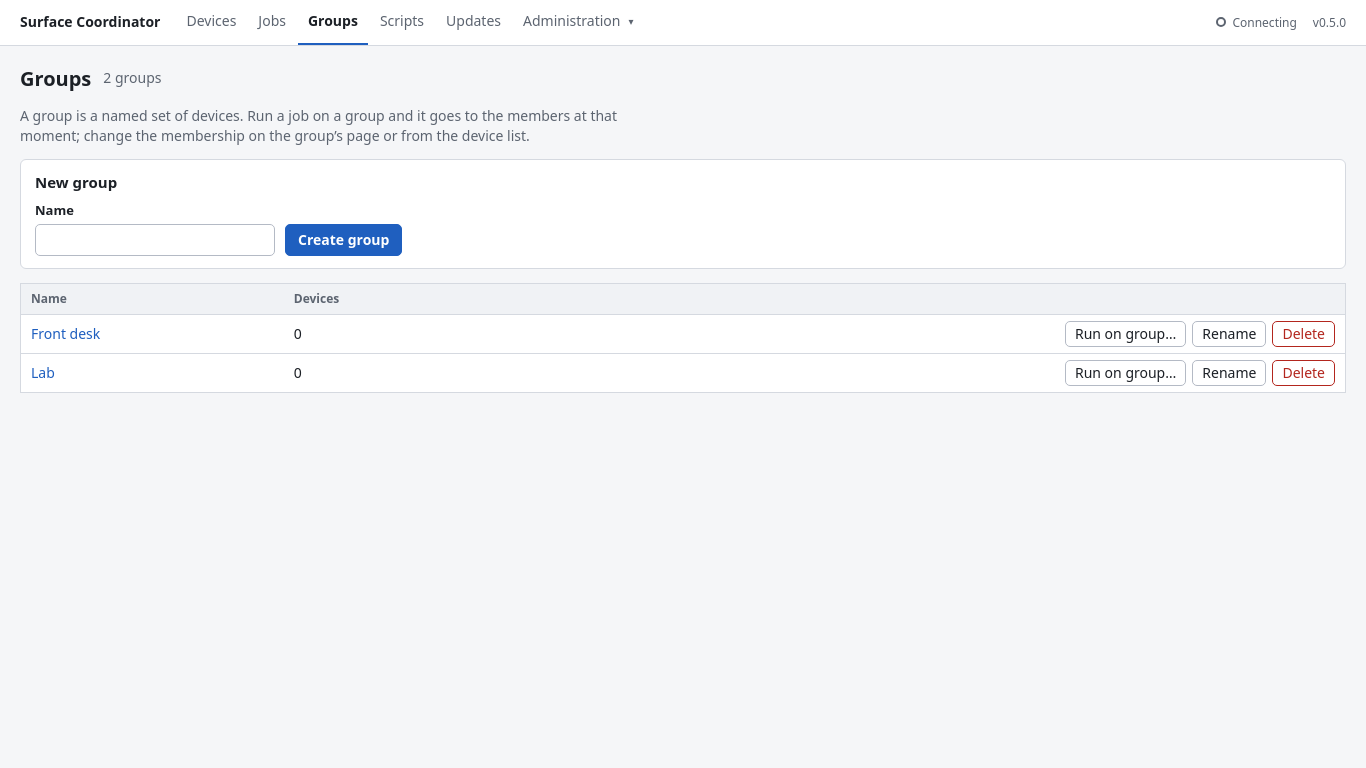
Test: Groups page › renames a group, reporting a clash inline
Click the button with aria-label "Rename Lab".
click(1229, 373)  # box x1=1192 y1=360 x2=1266 y2=386
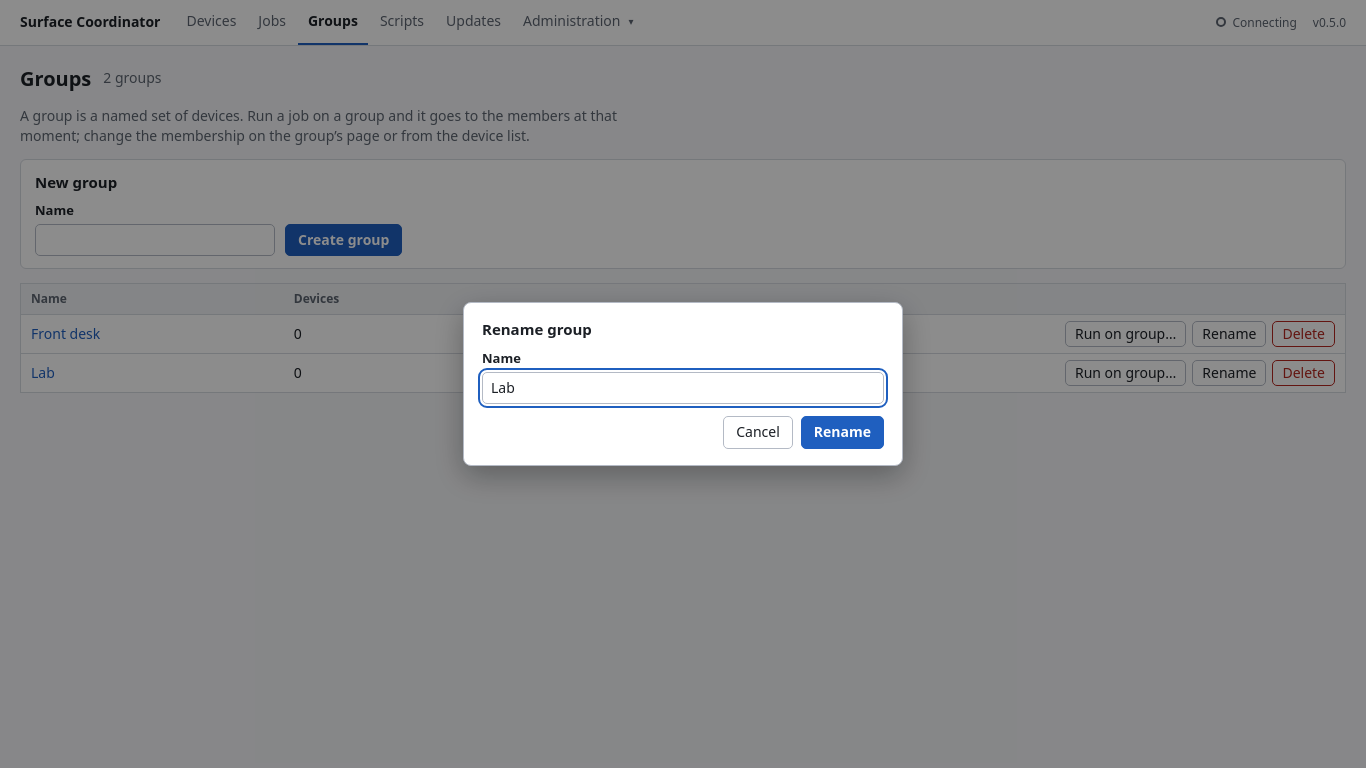
Check: the field labelled "Name" holds "Lab"
Replace the text in the field labelled "Name" with "front DESK" at (683, 388), box x1=482 y1=372 x2=884 y2=404
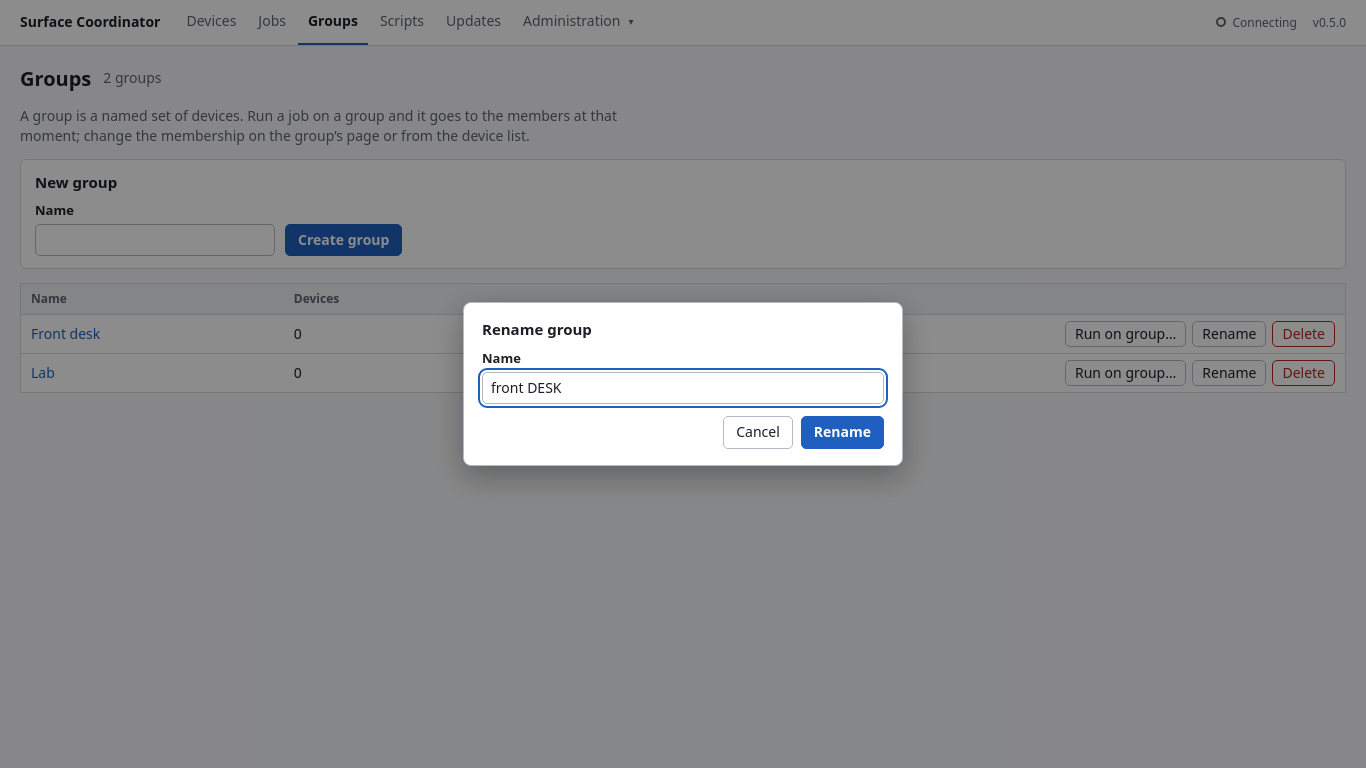
Click the button "Rename".
click(842, 432)  # box x1=801 y1=416 x2=884 y2=449
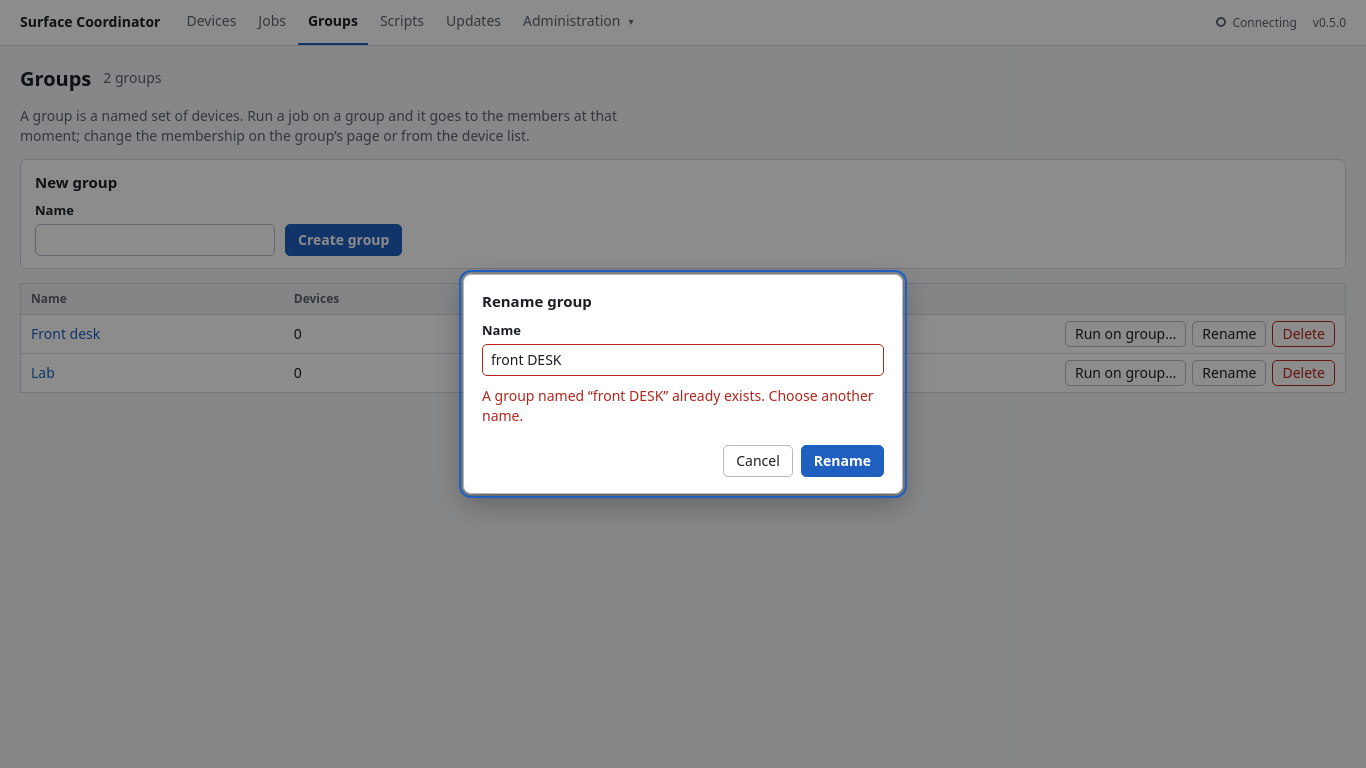
Check: the message shows "already exists", box x1=482 y1=386 x2=874 y2=425
Replace the text in the field labelled "Name" with "Classroom" at (683, 360), box x1=482 y1=344 x2=884 y2=376
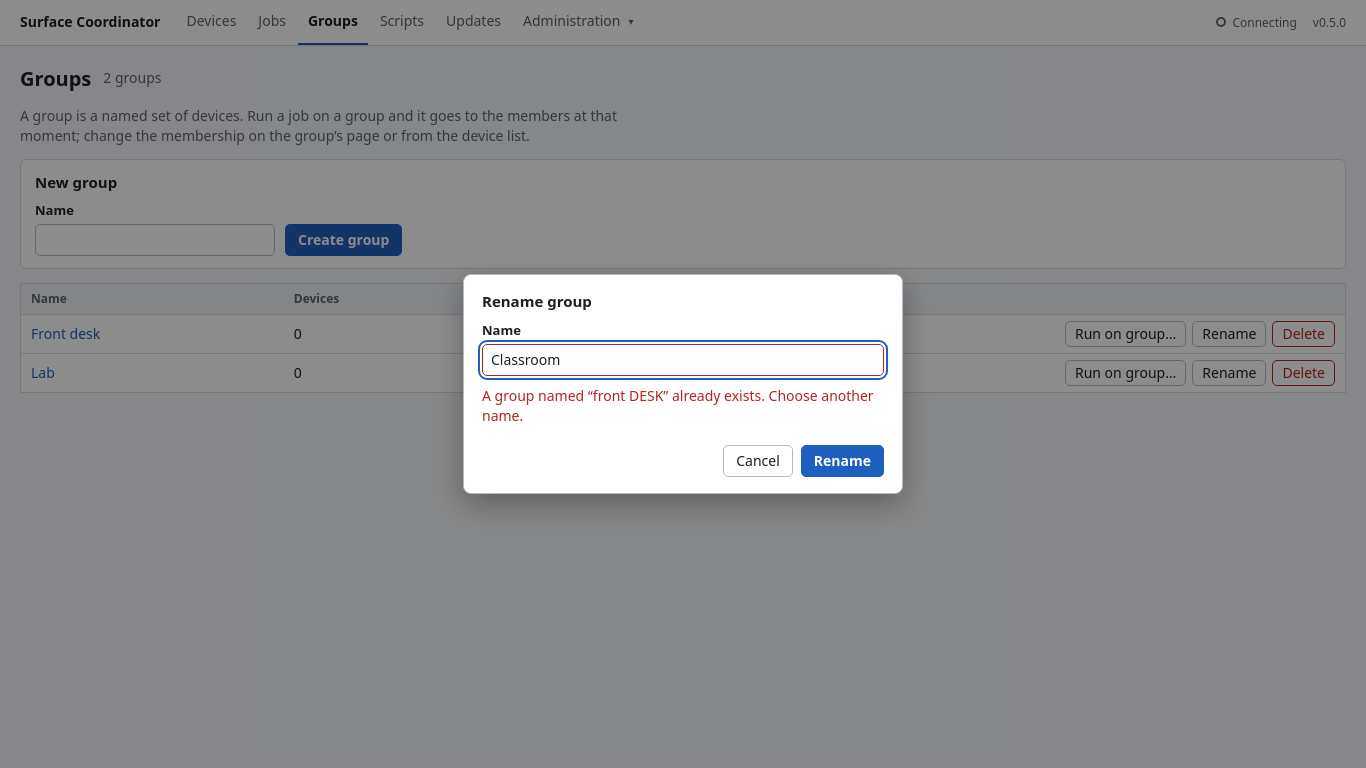
Click the button "Rename".
click(842, 461)  # box x1=801 y1=445 x2=884 y2=477
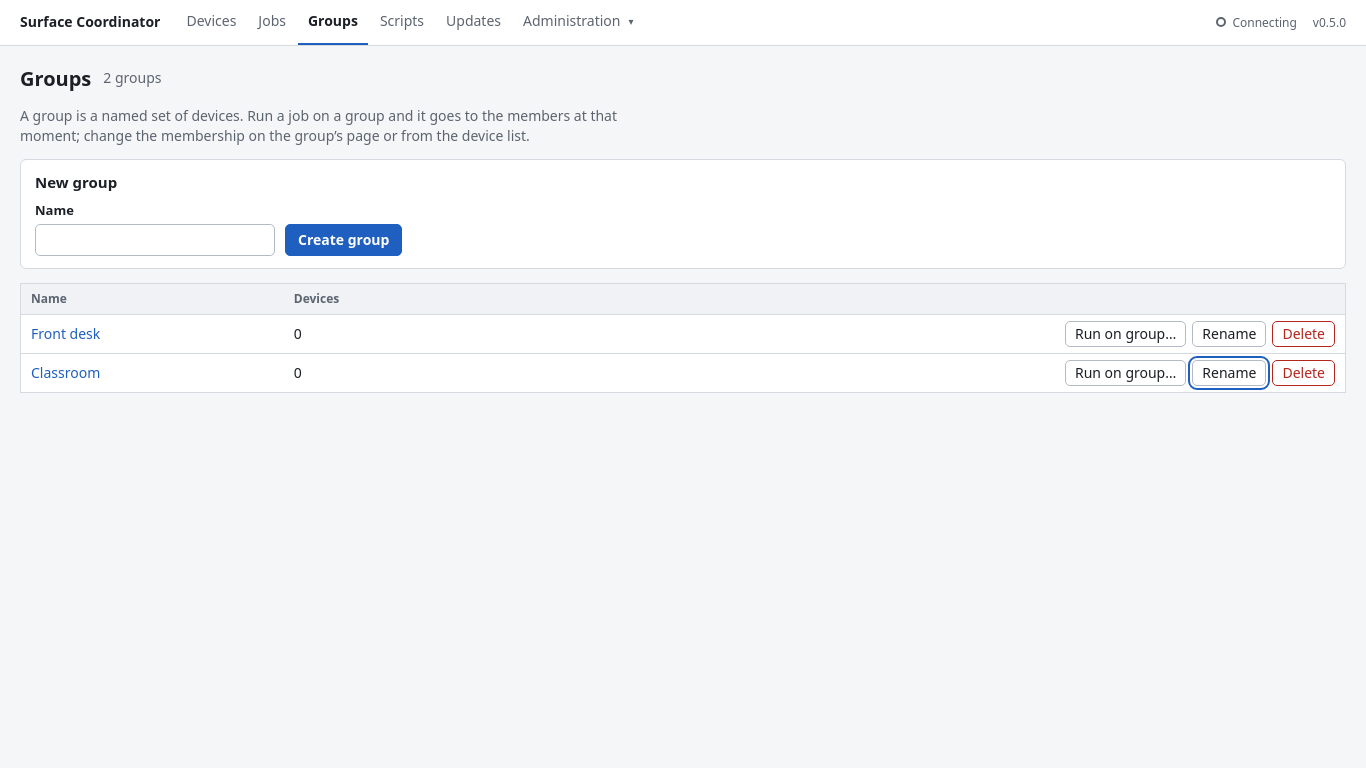
Check: the link "Classroom" is shown, box x1=31 y1=363 x2=100 y2=382
Check: the dialog is gone
